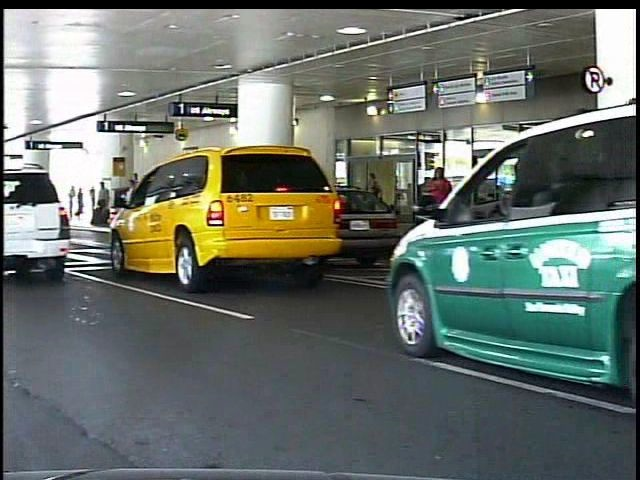person: (426, 166, 460, 251), (364, 170, 387, 227), (99, 179, 116, 230), (78, 185, 89, 226)
